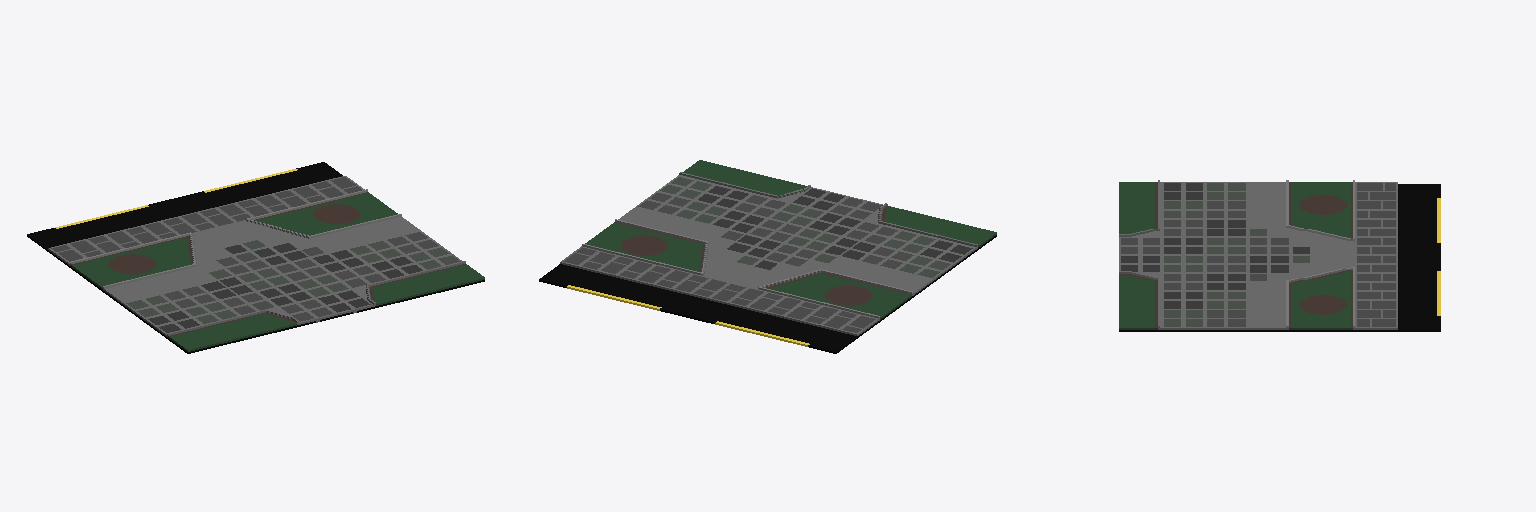
The picture shows the model from 3 angles: view 1: azimuth 30°, elevation 25°; view 2: azimuth 150°, elevation 25°; view 3: azimuth 270°, elevation 25°; orthographic projection.
Visible parts, largest first — view 1: Content.002; view 2: Content.002; view 3: Content.002.
Part boxes in pixels (x1,y1,x2,y2): Content.002: (27,162,484,353); Content.002: (539,160,996,353); Content.002: (1119,180,1440,331).
Size of the model in its own units: 24 by 0.45 by 22.5.
Materials: 1 (1 with a texture image).